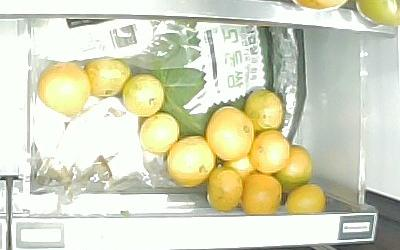tangerine: (37, 64, 91, 115), (206, 106, 254, 162), (168, 136, 216, 189), (248, 130, 292, 173), (123, 71, 164, 117), (86, 60, 131, 99), (139, 113, 180, 155), (241, 174, 283, 215), (207, 167, 243, 211), (246, 89, 284, 130), (280, 145, 312, 192), (286, 183, 325, 214)
